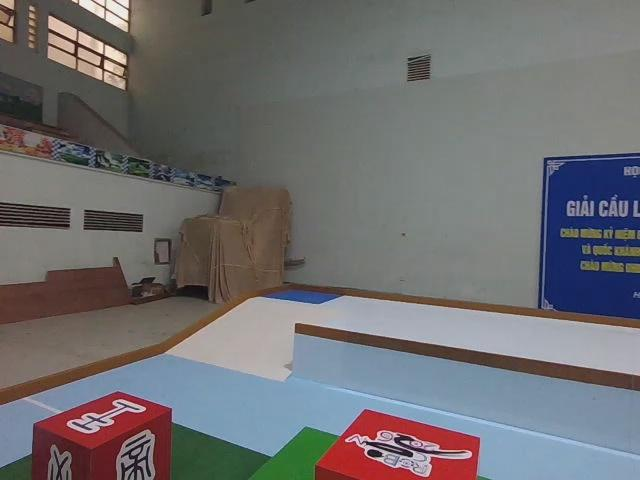R1: (311, 406, 483, 480)
R2 Fake: (29, 385, 176, 480)
